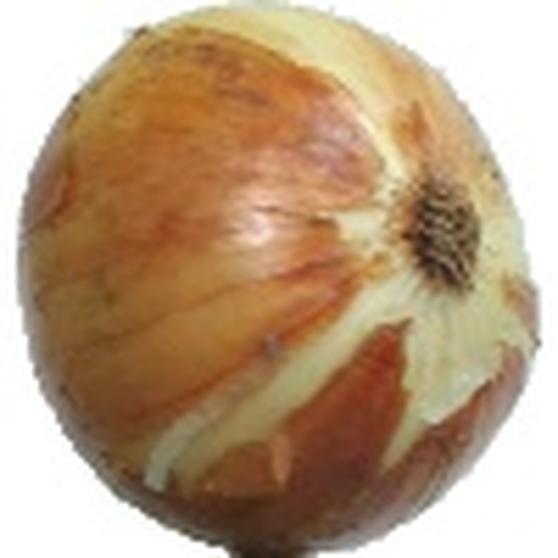onion: (17, 3, 541, 558)
